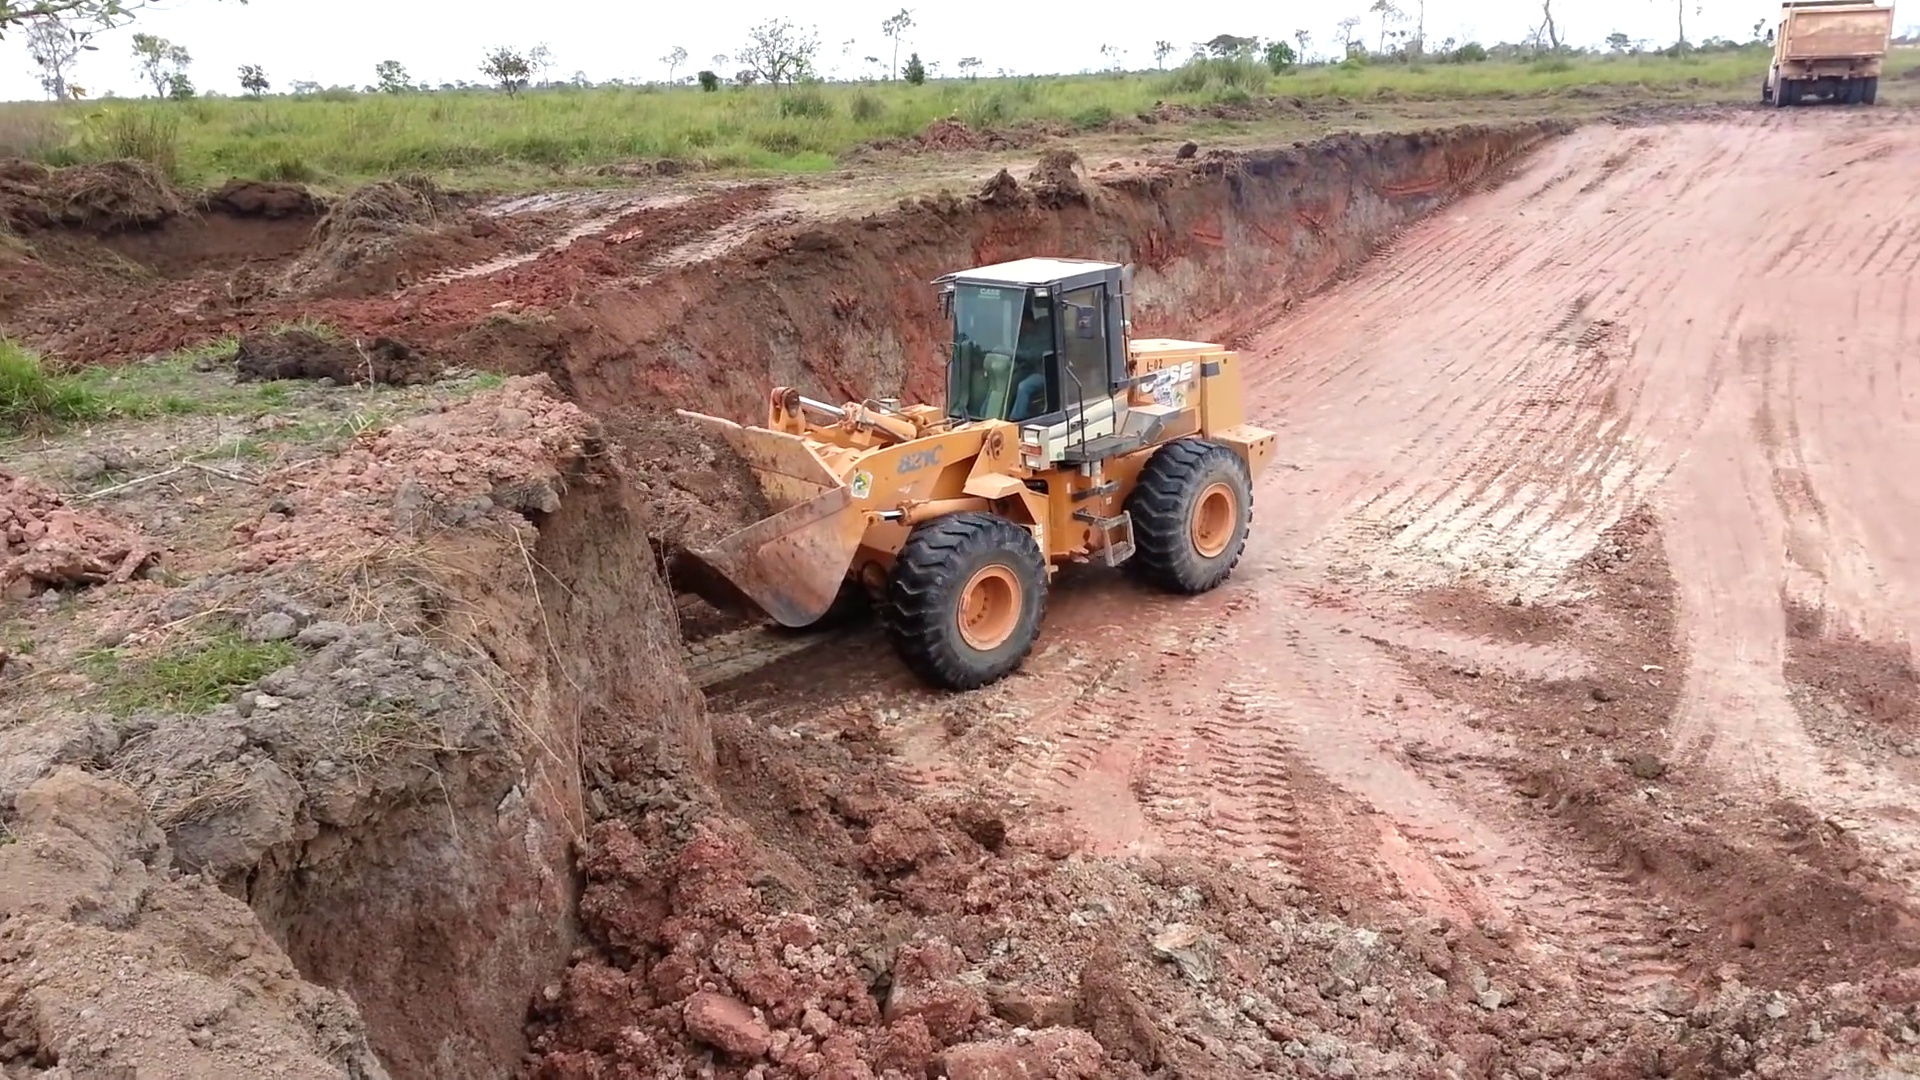truck: (1760, 4, 1894, 108)
wheel loader: (600, 258, 1280, 690)
